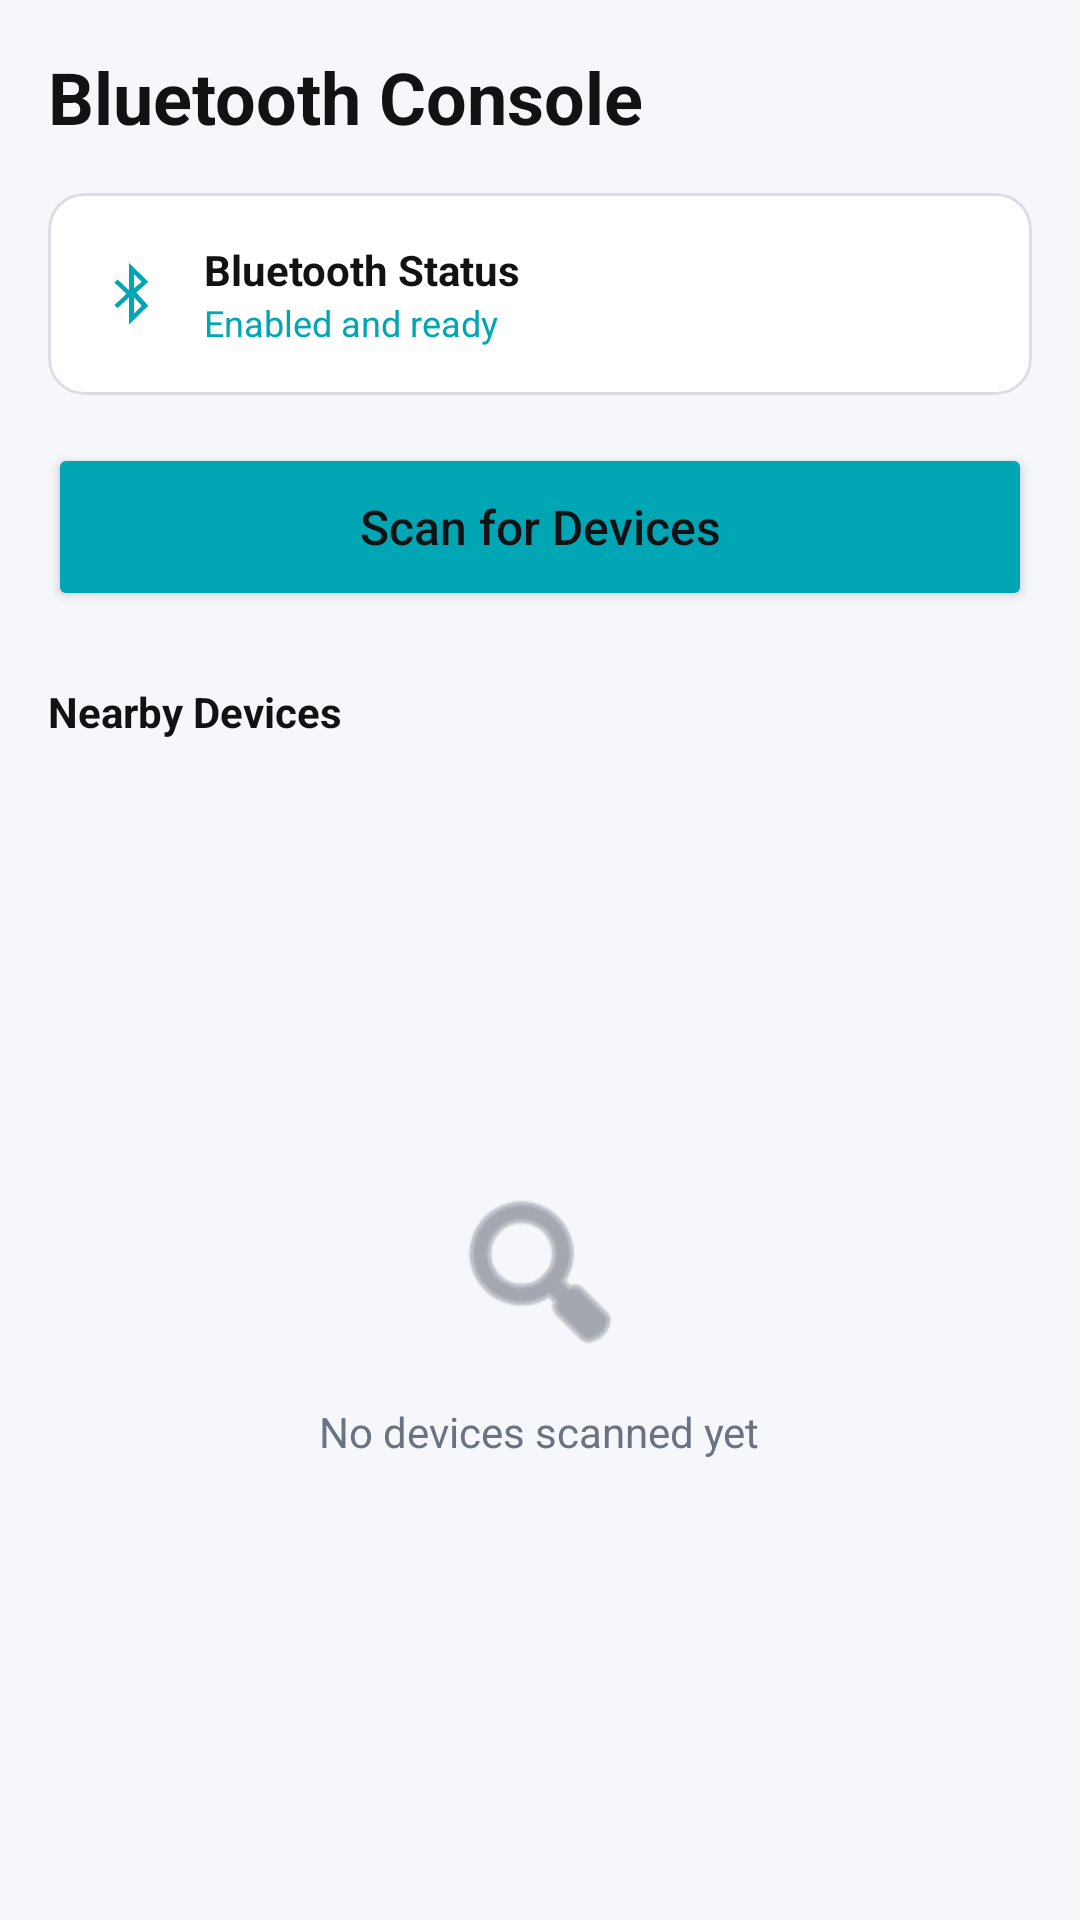

Where to tap for icons on this 1080*1920 app screen, as [x,y]:
search: [540,1272]
